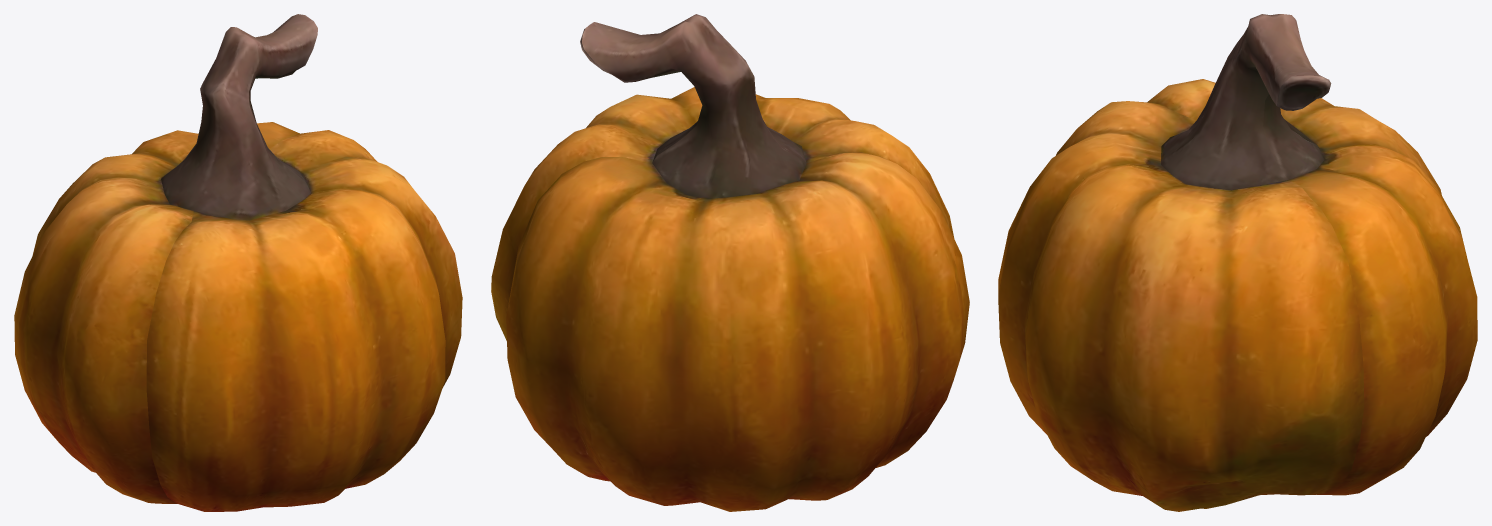
The picture shows the model from 3 angles, left to right: view 1: azimuth 30°, elevation 25°; view 2: azimuth 150°, elevation 25°; view 3: azimuth 270°, elevation 25°; orthographic projection. The views are drawn at different scales.
Parts seen in each view (by area): view 1: SM_Pumpkin_01v3_LOD0; view 2: SM_Pumpkin_01v3_LOD0; view 3: SM_Pumpkin_01v3_LOD0.
Part boxes in pixels (x1,y1,x2,y2): SM_Pumpkin_01v3_LOD0: (14,14,462,511); SM_Pumpkin_01v3_LOD0: (491,14,969,511); SM_Pumpkin_01v3_LOD0: (998,14,1477,511).
Size of the model in its own units: 0.9621 by 0.9966 by 0.952.
1 material, 1 textured.
